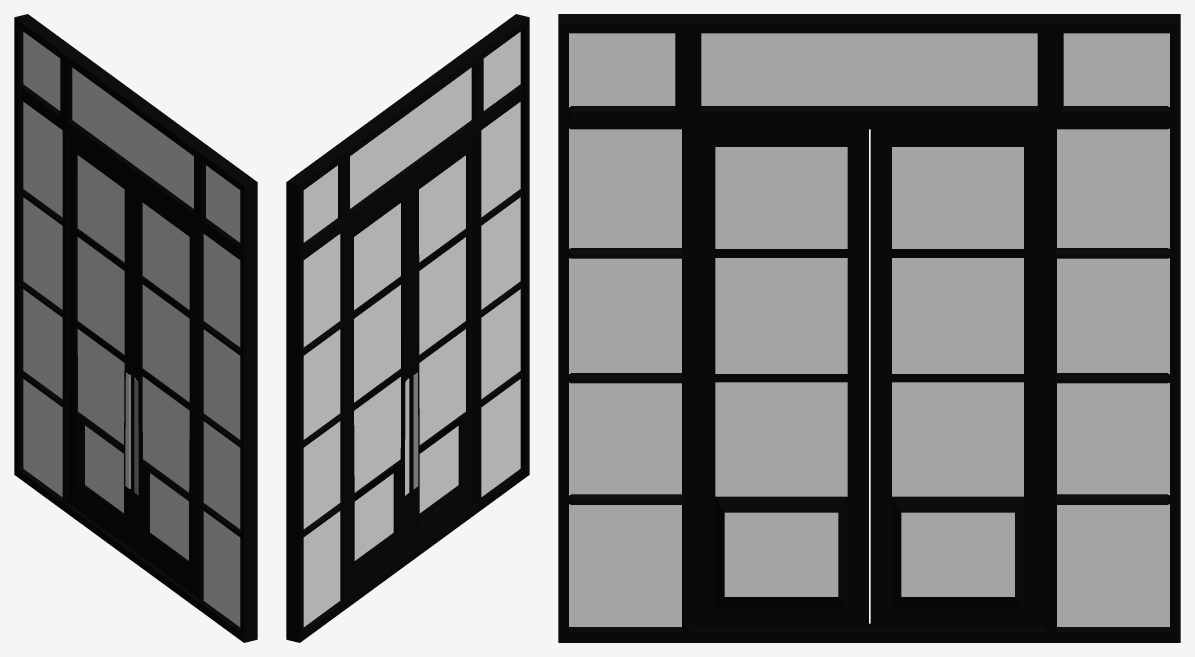
Rendered from SPECIAL _DOOR 3.fbx.
3 renders of one model, left to right at view 1: azimuth 30°, elevation 25°; view 2: azimuth 150°, elevation 25°; view 3: azimuth 270°, elevation 25°, orthographic. The views are drawn at different scales.
Visible parts, largest first — view 1: polySurface14, polySurface33, polySurface31, polySurface21, polySurface29, polySurface29_1, polySurface30.001, polySurface30_1, polySurface23, polySurface28_1, polySurface28.001, polySurface22 (+12 smaller); view 2: polySurface14, polySurface31, polySurface33, polySurface21, polySurface29, polySurface29_1, polySurface30_1, polySurface30.001, polySurface24, polySurface18, polySurface28.001, polySurface28_1 (+12 smaller); view 3: polySurface14, polySurface31, polySurface33, polySurface21, polySurface29, polySurface29_1, polySurface30.001, polySurface30_1, polySurface23, polySurface24, polySurface28.001, polySurface28_1 (+10 smaller).
Part boxes in pixels (x1,y1,x2,y2): polySurface14: (14, 14, 257, 642); polySurface33: (68, 135, 132, 549); polySurface31: (133, 182, 196, 596); polySurface21: (72, 67, 193, 208); polySurface29: (142, 284, 189, 402); polySurface29_1: (77, 237, 124, 354); polySurface30.001: (142, 376, 189, 492); polySurface30_1: (77, 329, 124, 444); polySurface23: (23, 379, 62, 496); polySurface28_1: (77, 155, 124, 262); polySurface28.001: (142, 203, 189, 309); polySurface22: (23, 102, 62, 217); polySurface14: (286, 14, 529, 642); polySurface31: (410, 135, 475, 549); polySurface33: (347, 182, 410, 596); polySurface21: (350, 67, 471, 208); polySurface29: (419, 237, 465, 354); polySurface29_1: (354, 285, 400, 402); polySurface30_1: (354, 377, 400, 492); polySurface30.001: (419, 329, 465, 444); polySurface24: (481, 379, 520, 496); polySurface18: (481, 102, 520, 217); polySurface28.001: (419, 155, 465, 262); polySurface28_1: (354, 203, 400, 309); polySurface14: (558, 14, 1180, 642); polySurface31: (695, 129, 868, 627); polySurface33: (870, 129, 1043, 627); polySurface21: (701, 33, 1037, 105); polySurface29: (715, 258, 847, 373); polySurface29_1: (892, 258, 1023, 373); polySurface30.001: (715, 382, 847, 496); polySurface30_1: (892, 382, 1023, 496); polySurface23: (1057, 504, 1169, 626); polySurface24: (569, 504, 681, 626); polySurface28.001: (715, 147, 847, 248); polySurface28_1: (892, 147, 1023, 248).
Size of the model in its own units: 8.26 by 269 by 245.
